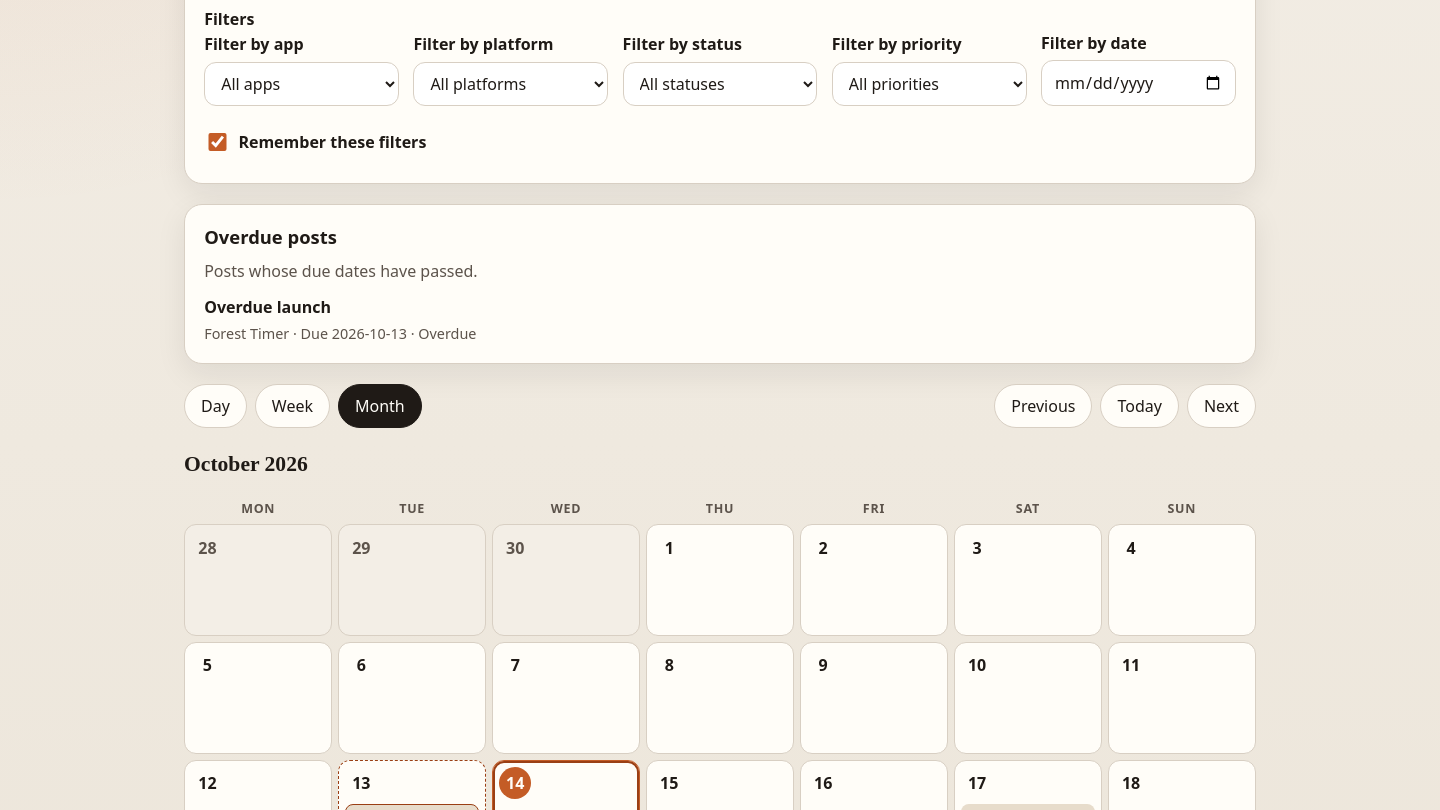
Test: B-013 overdue and upcoming posts › shows overdue posts on the Calendar and marks them on the board
The image size is (1440, 810).
(page scrolled)
Expected: the link "Overdue launch" below "Posts whose due dates have passed." is shown, [204,296,331,318]
Click the button "Day" at (215, 406), box [184,384,247,428]
(page scrolled)
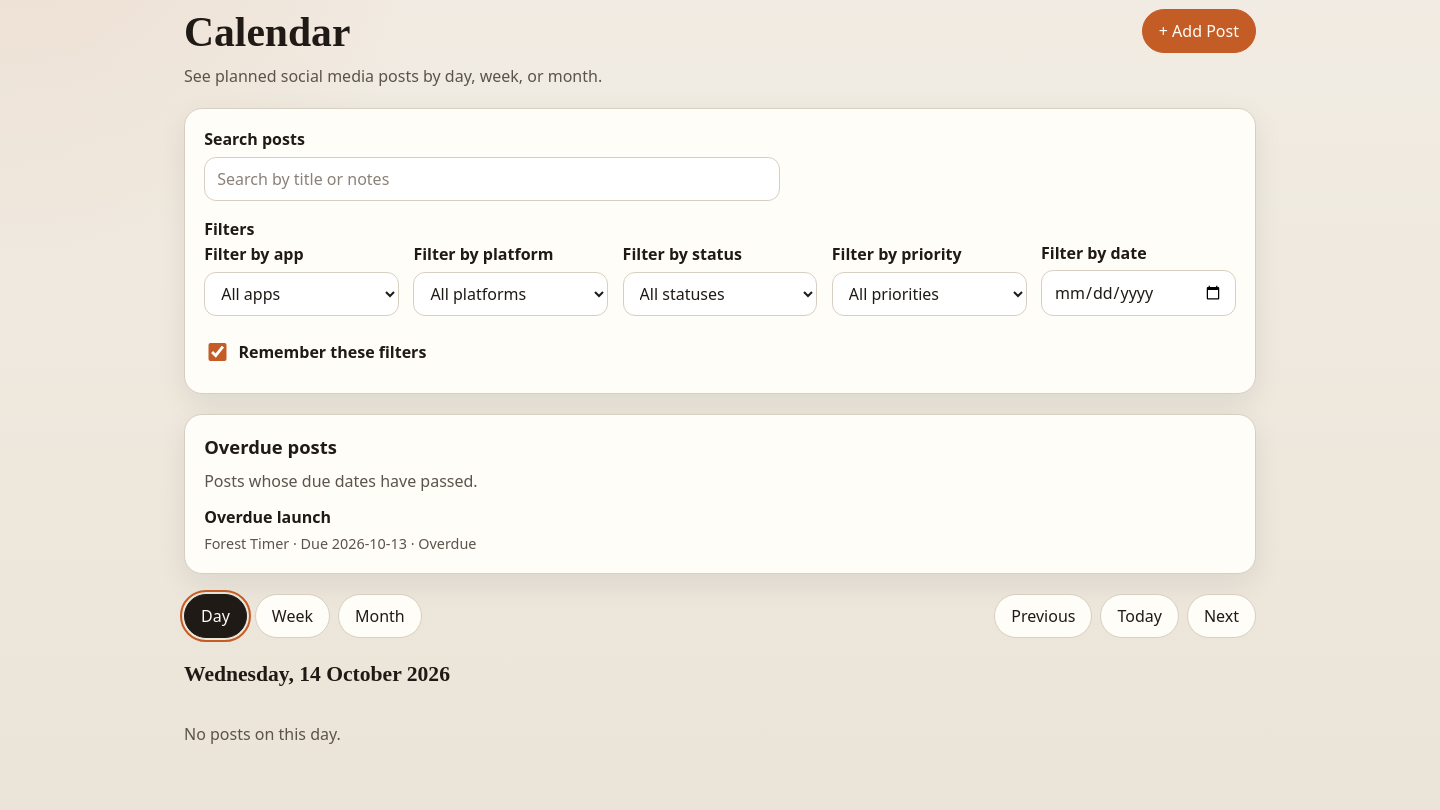
Click the button "Previous" at (1043, 616), box [994,594,1092,638]
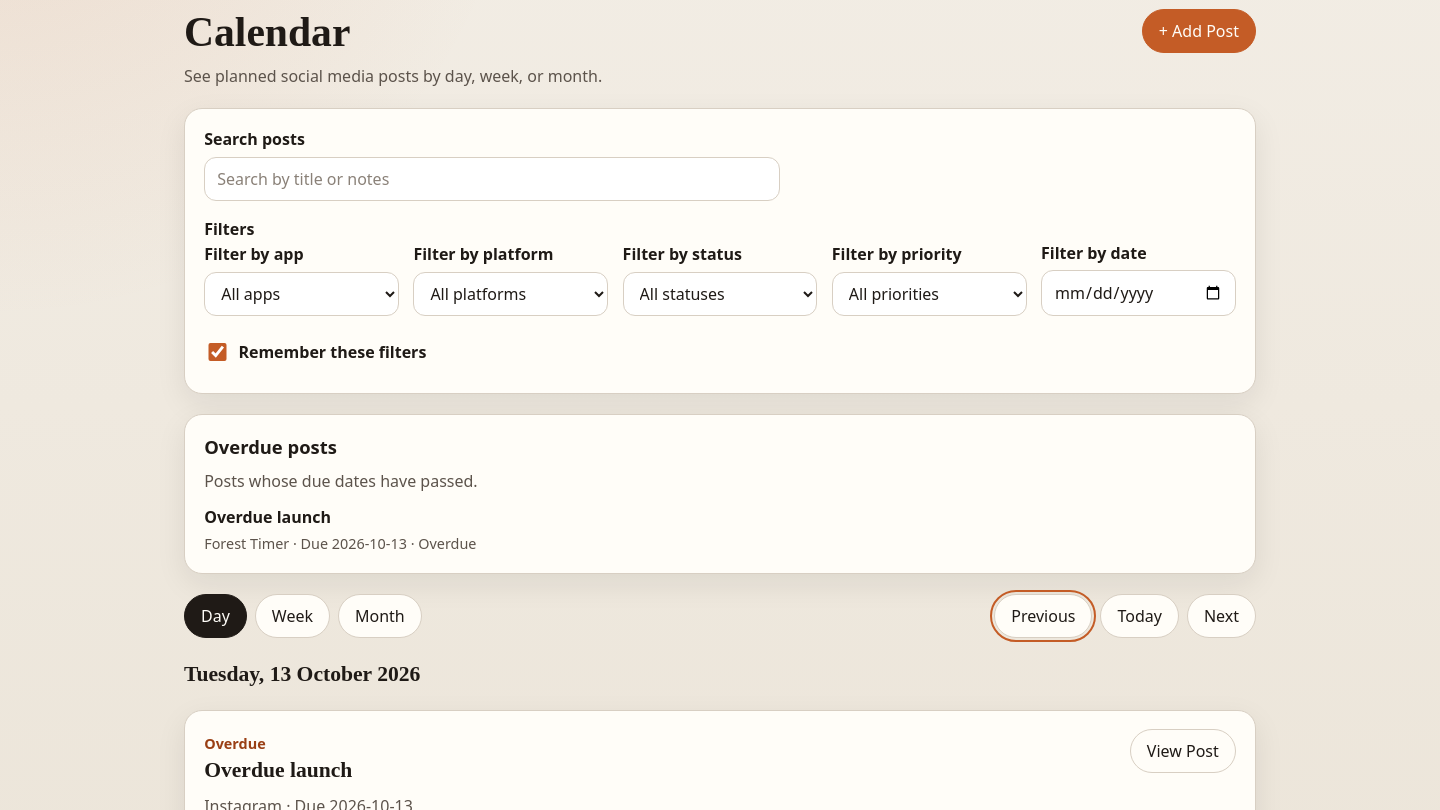
Expected: the text "Overdue" is shown, [204,734,266,753]
Expected: the heading "Overdue launch" is shown, [204,758,352,782]
